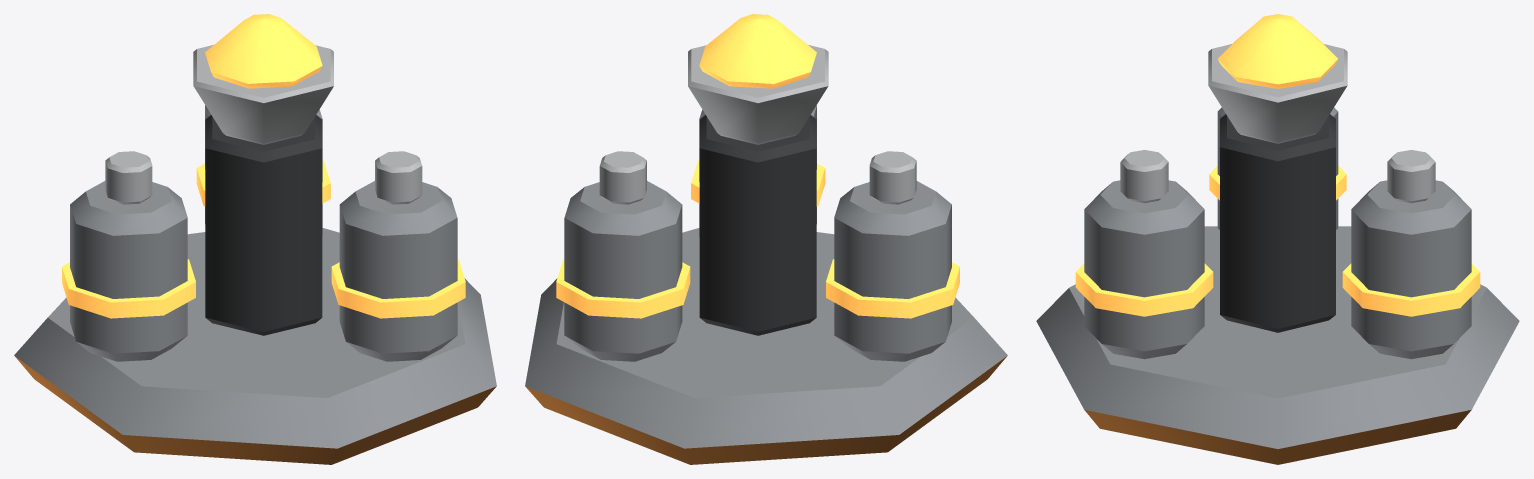
The model's file is R4D_BurnTrap_LOD1.fbx.
3 views of the same model, side by side, from view 1: azimuth 30°, elevation 25°; view 2: azimuth 150°, elevation 25°; view 3: azimuth 270°, elevation 25° (orthographic).
Parts seen in each view (by area): view 1: R4D_BurnTrap_LOD1; view 2: R4D_BurnTrap_LOD1; view 3: R4D_BurnTrap_LOD1.
Part boxes in pixels (left/top/right/bottom): R4D_BurnTrap_LOD1: left=14, top=14, right=496, bottom=464; R4D_BurnTrap_LOD1: left=525, top=14, right=1007, bottom=464; R4D_BurnTrap_LOD1: left=1036, top=14, right=1519, bottom=464.
Size of the model in its own units: 0.3517 by 0.288 by 0.3607.
